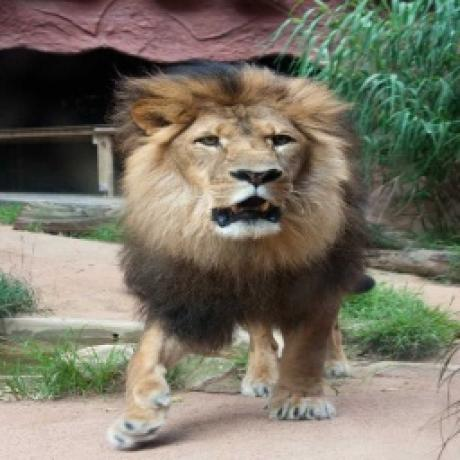Lion: (102, 58, 376, 454)
